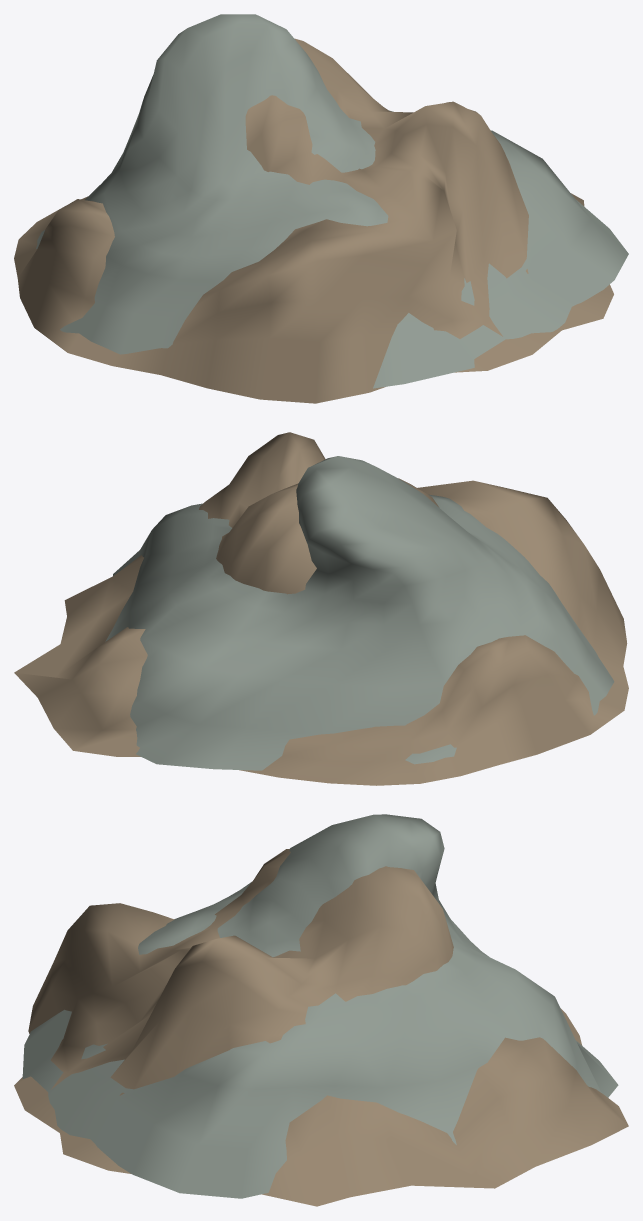
Rendered from Mountains.fbx.
The picture shows the model from 3 angles, top to bottom: view 1: azimuth 30°, elevation 25°; view 2: azimuth 150°, elevation 25°; view 3: azimuth 270°, elevation 25°; orthographic projection. The views are drawn at different scales.
Visible parts, largest first — view 1: Mountain2, Mountain1; view 2: Mountain1, Mountain2; view 3: Mountain2, Mountain1.
Boxes of the visible parts, <box> form: Mountain2: <box>14,38,613,403</box>; Mountain1: <box>36,14,628,388</box>; Mountain1: <box>105,456,614,770</box>; Mountain2: <box>14,432,628,785</box>; Mountain2: <box>14,849,628,1206</box>; Mountain1: <box>22,814,618,1198</box>.
Size of the model in its own units: 83.12 by 34.94 by 81.06.
